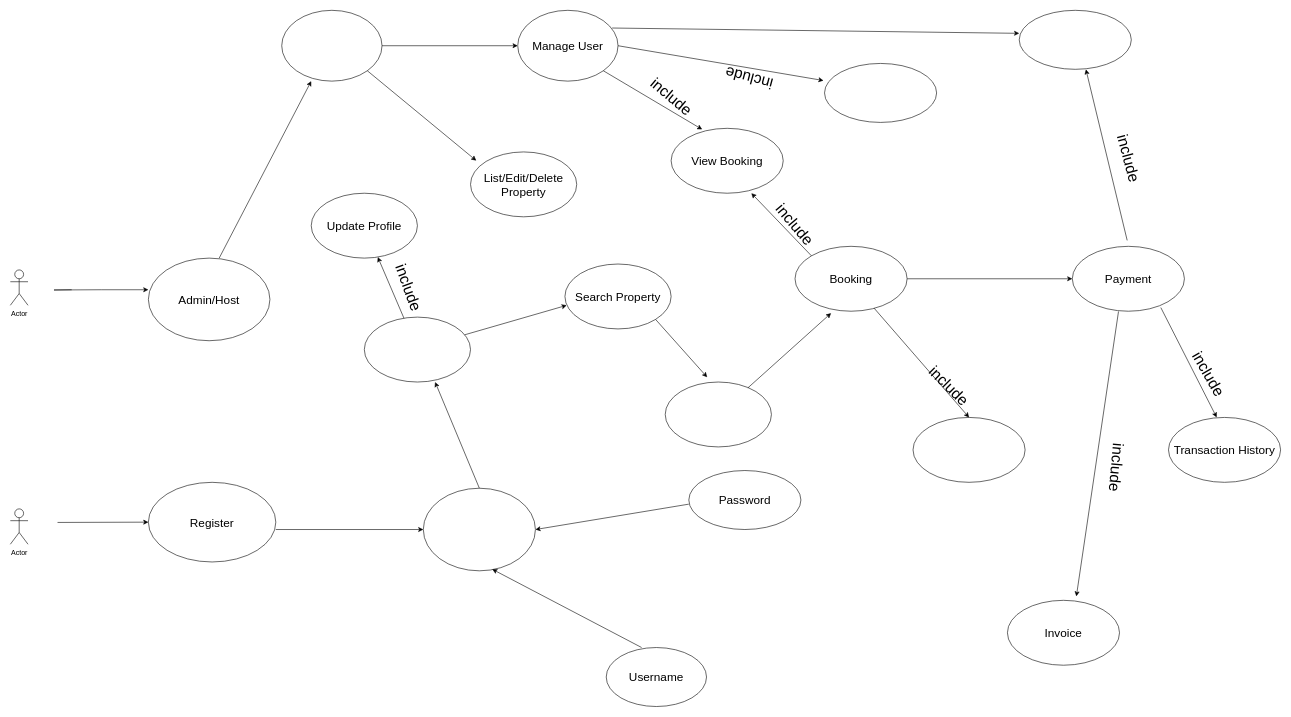
The diagram is 1291 pixels wide and 717 high, and some of its shapes have lost their labels. The shapes that lost their labels are listed below. From the top down, each one's centre as x and y in pixels, then its label:
point (331, 45): Admin Dashboard
point (1075, 39): Refund
point (880, 92): Cancel Booking
point (417, 349): profile
point (718, 414): View Property Details
point (968, 449): Booking History
point (479, 529): login
